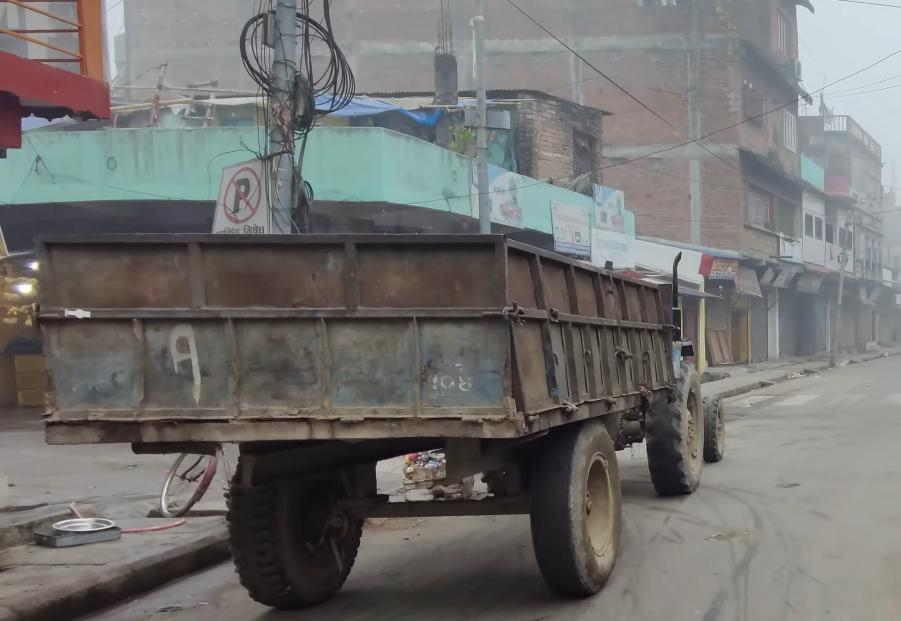tractor: (19, 210, 736, 602)
